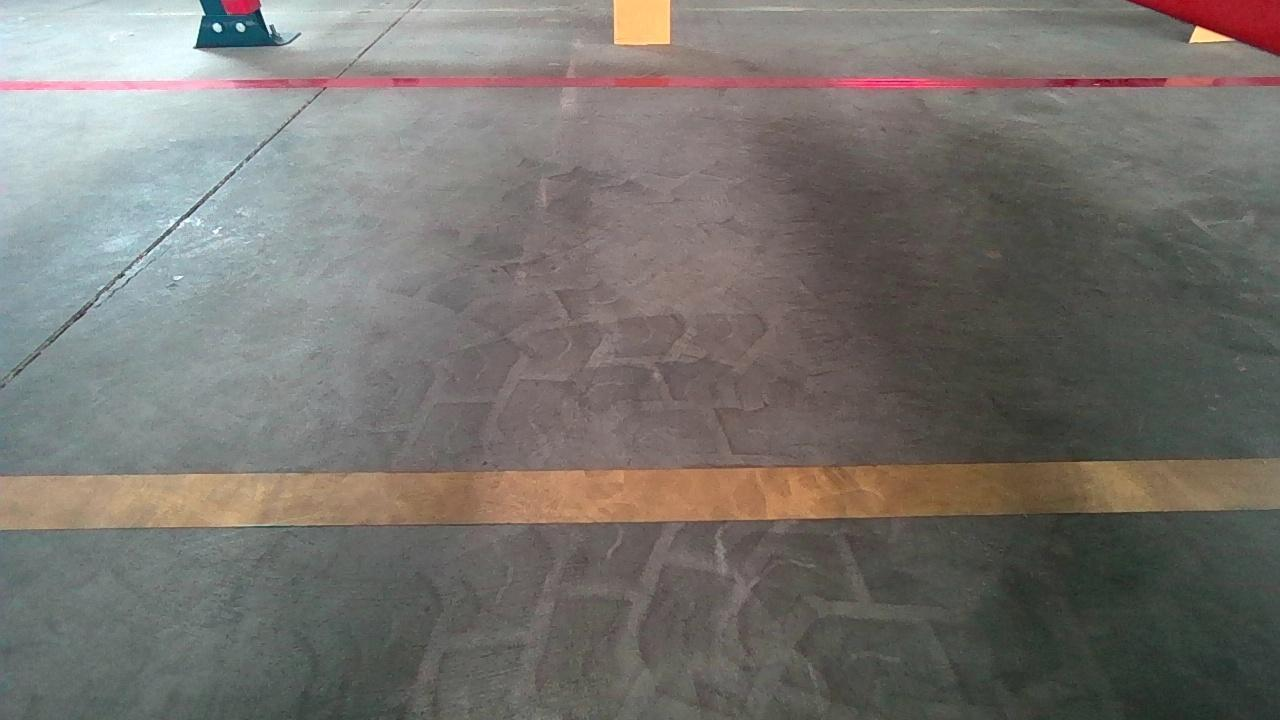yellow_line: (0, 458, 1273, 531)
